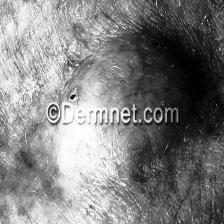Benign Marking or Mole: (50, 28, 195, 176)
